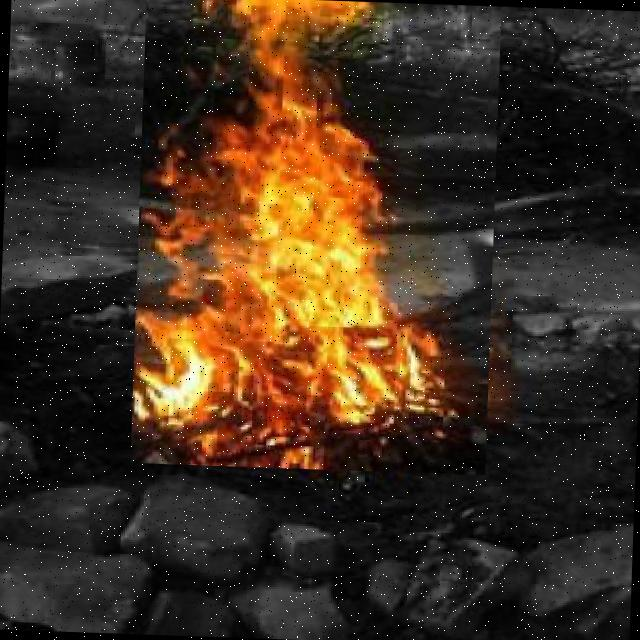fire: (130, 0, 501, 475)
